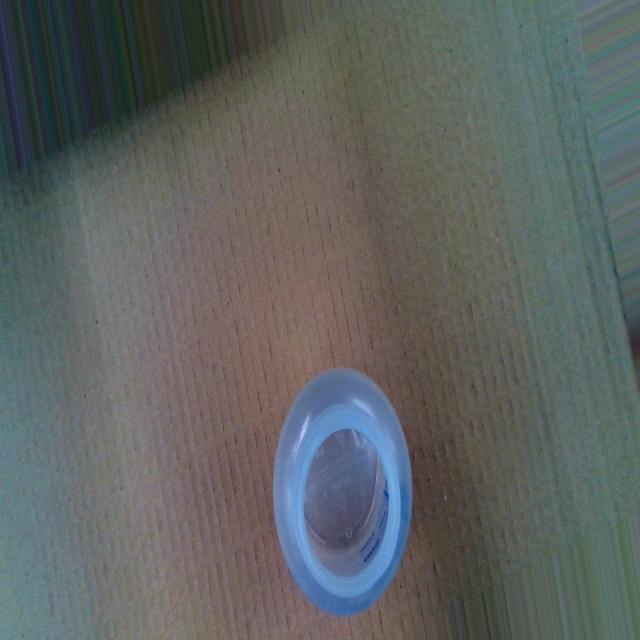bottle: (271, 362, 414, 624)
